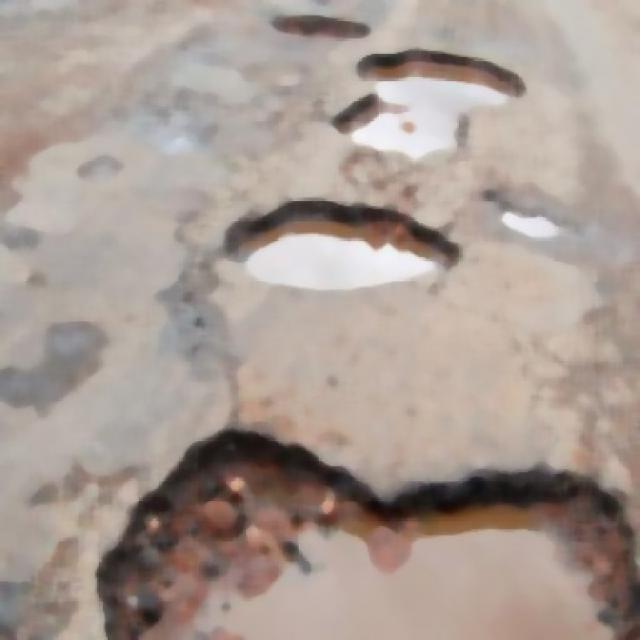pothole: (80, 445, 633, 638), (225, 183, 434, 303), (344, 63, 507, 165), (268, 9, 361, 57)
